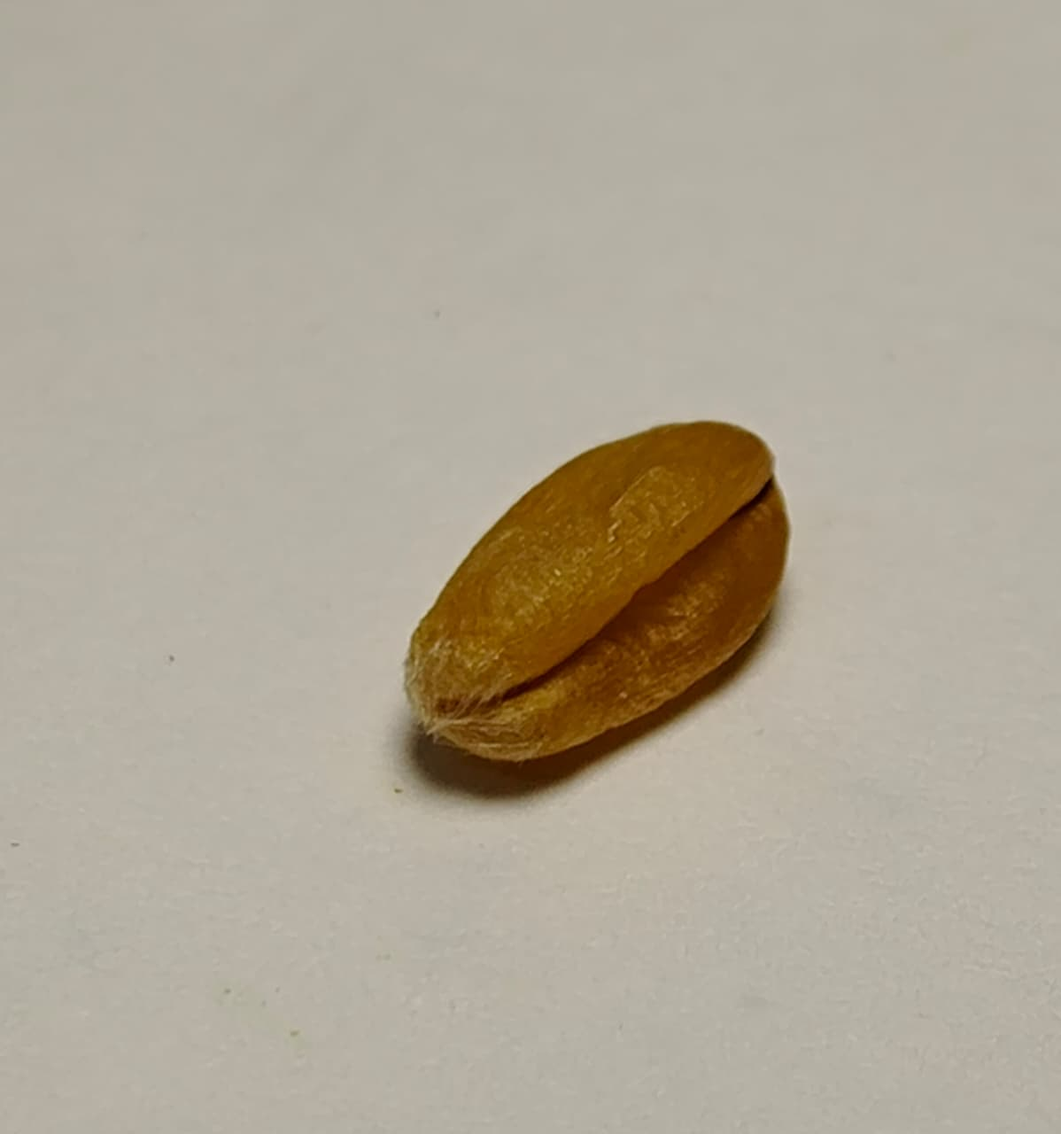healthy: (410, 425, 788, 759)
